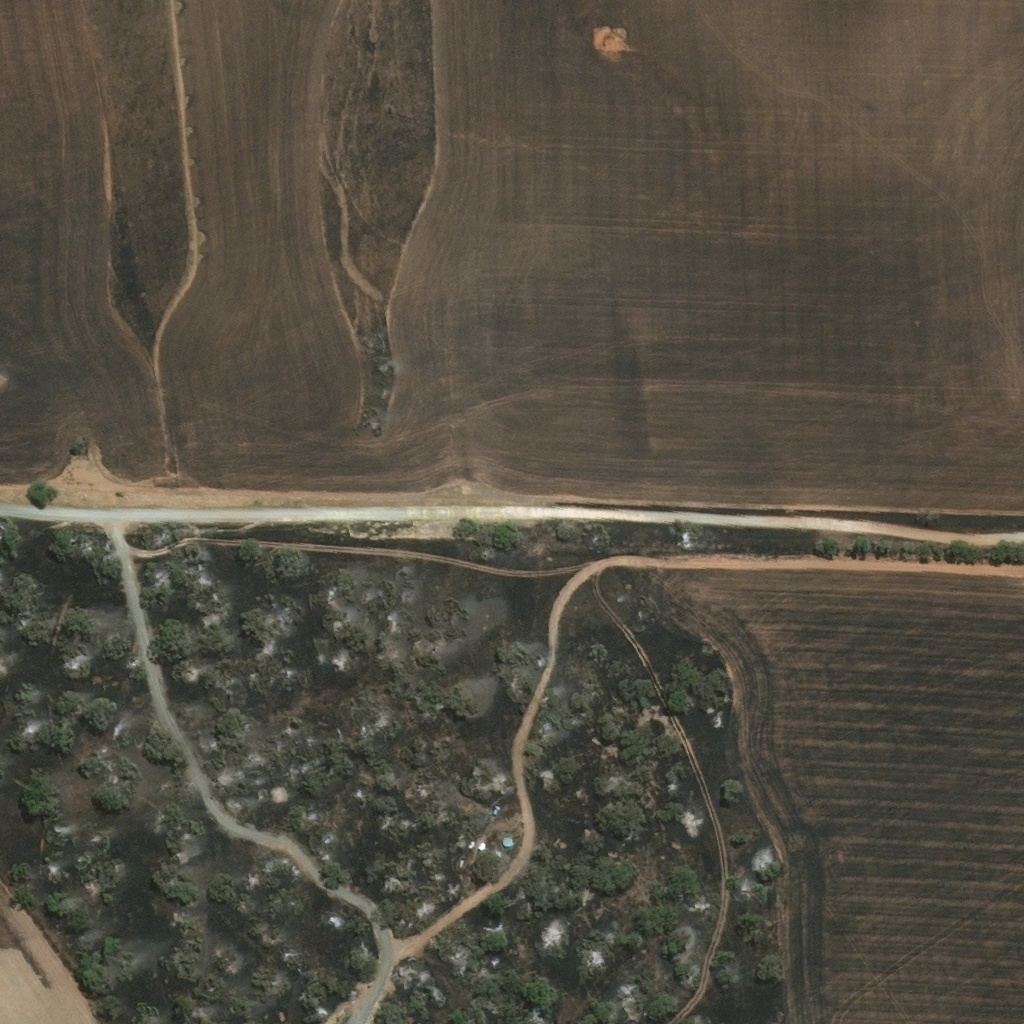0 no-damage: (505, 830, 516, 842)
